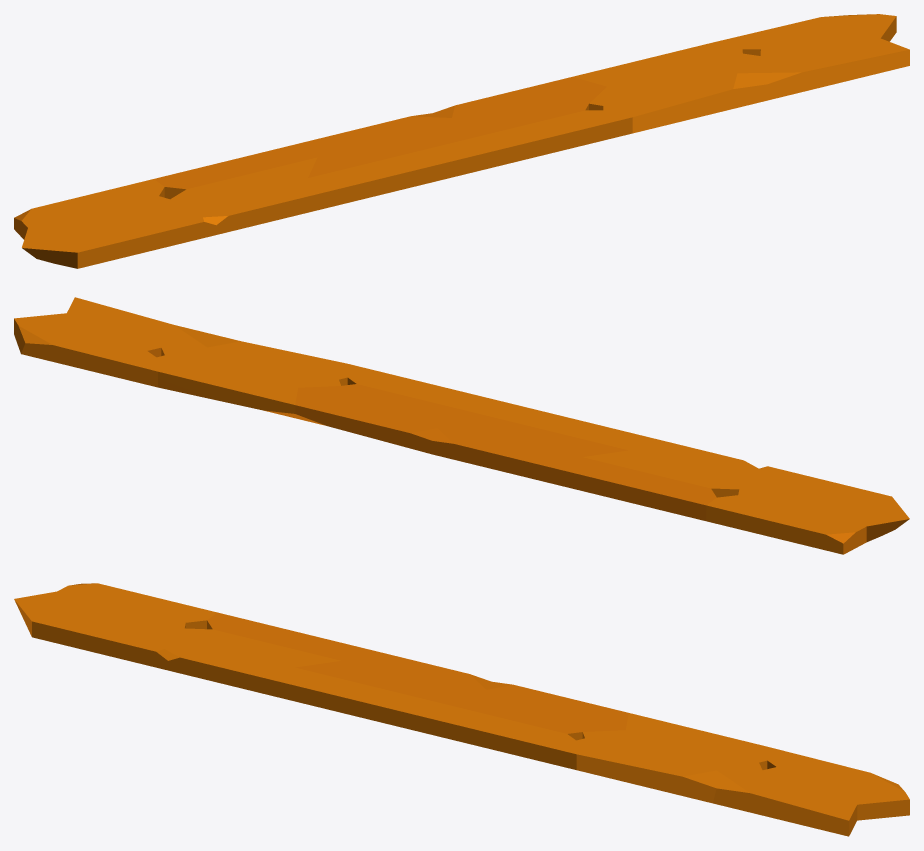
The model's file is Rotten wood_9.fbx.
3 renders of one model, top to bottom at view 1: azimuth 30°, elevation 25°; view 2: azimuth 150°, elevation 25°; view 3: azimuth 330°, elevation 25°, orthographic.
Visible parts, largest first — view 1: Cube.084; view 2: Cube.084; view 3: Cube.084.
Boxes of the visible parts, <box> form: Cube.084: <box>14,14,909,268</box>; Cube.084: <box>14,297,909,554</box>; Cube.084: <box>14,583,909,836</box>.
Bounding box in the file's own units: 119 × 2.07 × 13.07.
